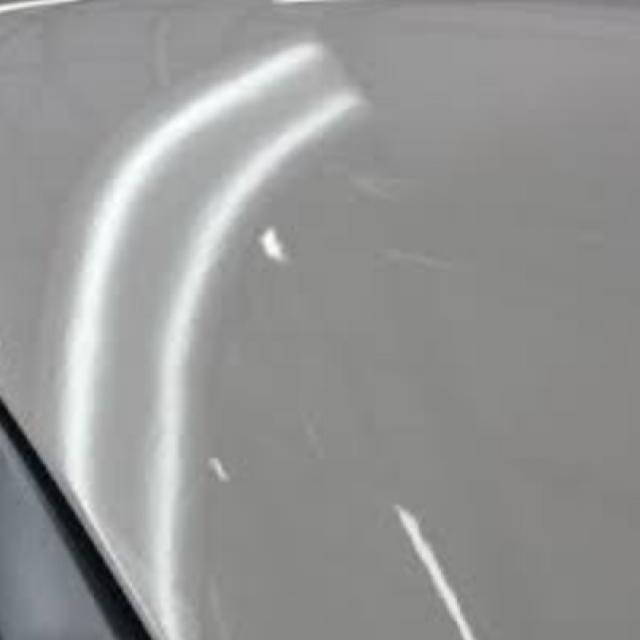dents: (251, 212, 329, 286), (187, 443, 252, 489)
